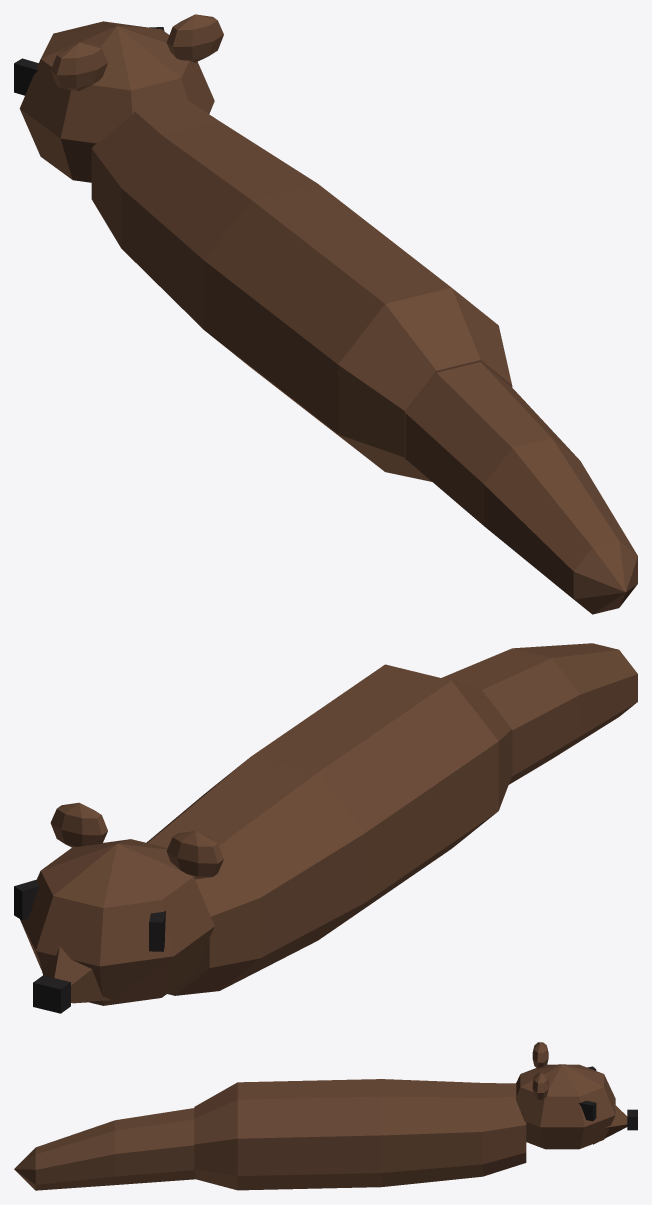
Rendered from animal_mink.obj.
The picture shows the model from 3 angles, top to bottom: view 1: azimuth 30°, elevation 25°; view 2: azimuth 150°, elevation 25°; view 3: azimuth 270°, elevation 25°; orthographic projection. The views are drawn at different scales.
Visible parts, largest first — view 1: animal_mink; view 2: animal_mink; view 3: animal_mink.
Part boxes in pixels (<box>): animal_mink: <box>14,14,637,614</box>; animal_mink: <box>14,643,637,1013</box>; animal_mink: <box>14,1042,637,1190</box>.
Size of the model in its own units: 0.1444 by 0.1977 by 0.865.
